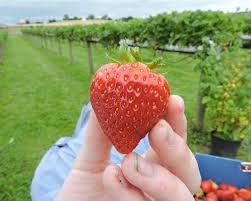ripe: (91, 63, 174, 162)
